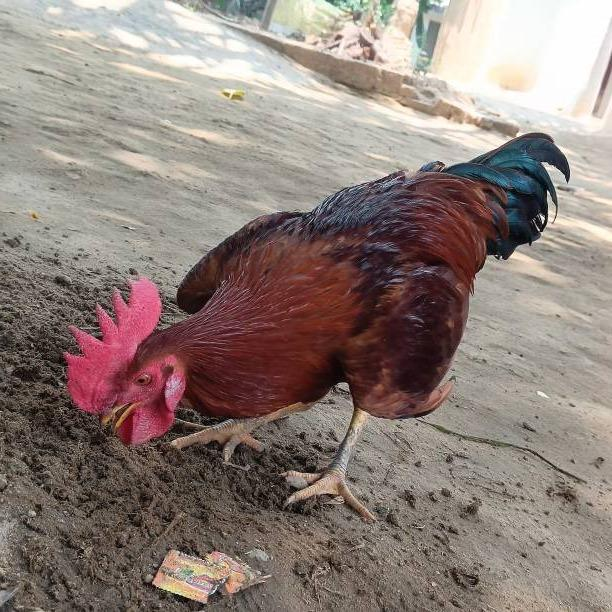AbNormal: (63, 134, 547, 522)
